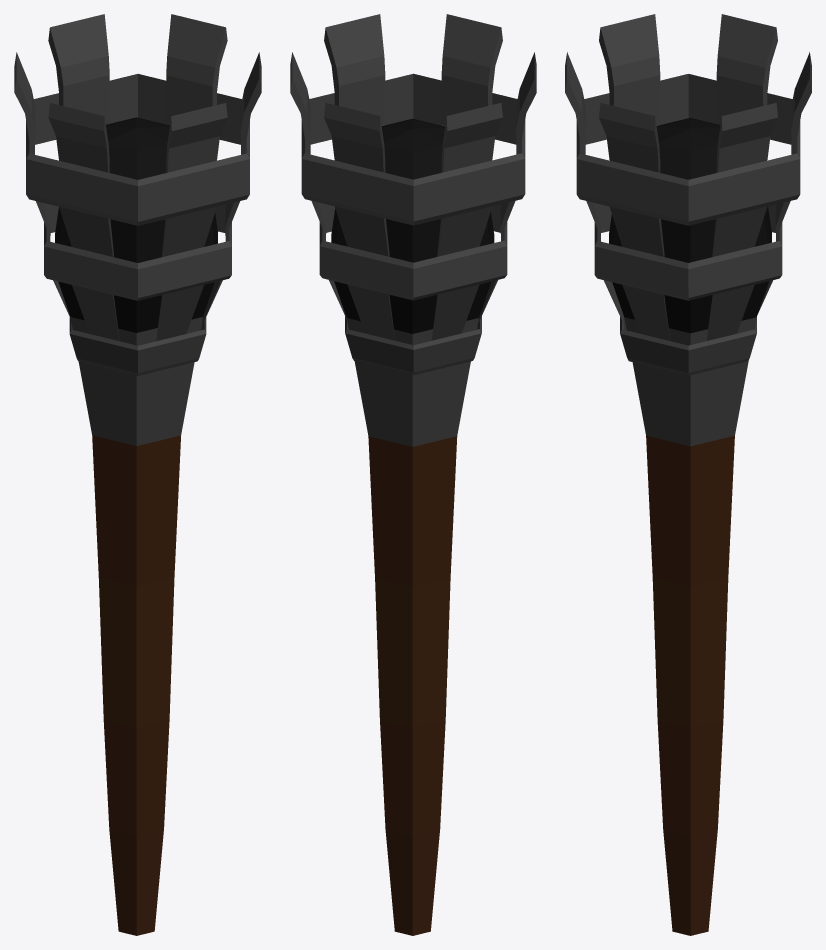
Rendered from Torch01_FBX.fbx.
3 renders of one model, left to right at view 1: azimuth 30°, elevation 25°; view 2: azimuth 150°, elevation 25°; view 3: azimuth 270°, elevation 25°, orthographic.
Visible parts, largest first — view 1: Torch_Sconce001, Torch001; view 2: Torch_Sconce001, Torch001; view 3: Torch_Sconce001, Torch001.
Boxes of the visible parts, x1,y1,x2,y2 form: Torch_Sconce001: (14,14,261,375); Torch001: (55,117,217,935); Torch_Sconce001: (290,14,536,375); Torch001: (331,118,494,935); Torch_Sconce001: (565,14,811,375); Torch001: (609,117,771,935).
Size of the model in its own units: 10.58 by 38.97 by 10.11.
